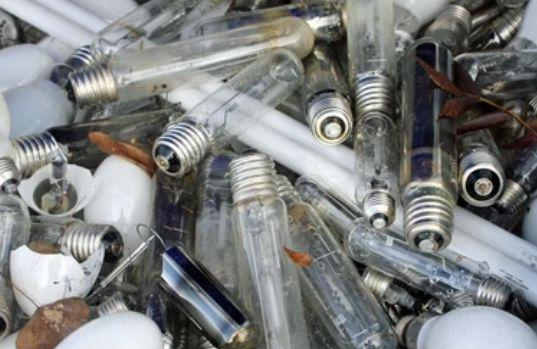light bulb: (66, 15, 317, 111), (151, 52, 306, 178), (224, 148, 317, 349), (342, 217, 521, 318), (346, 0, 399, 226), (405, 39, 456, 253), (0, 218, 125, 269), (300, 35, 356, 148), (492, 144, 537, 216)
